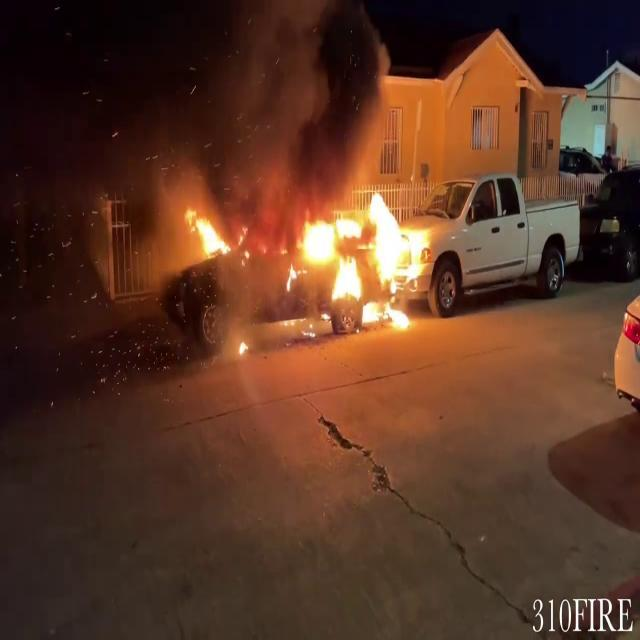Fire: (296, 178, 428, 328), (182, 203, 232, 263)
Smoke: (128, 0, 390, 211)
